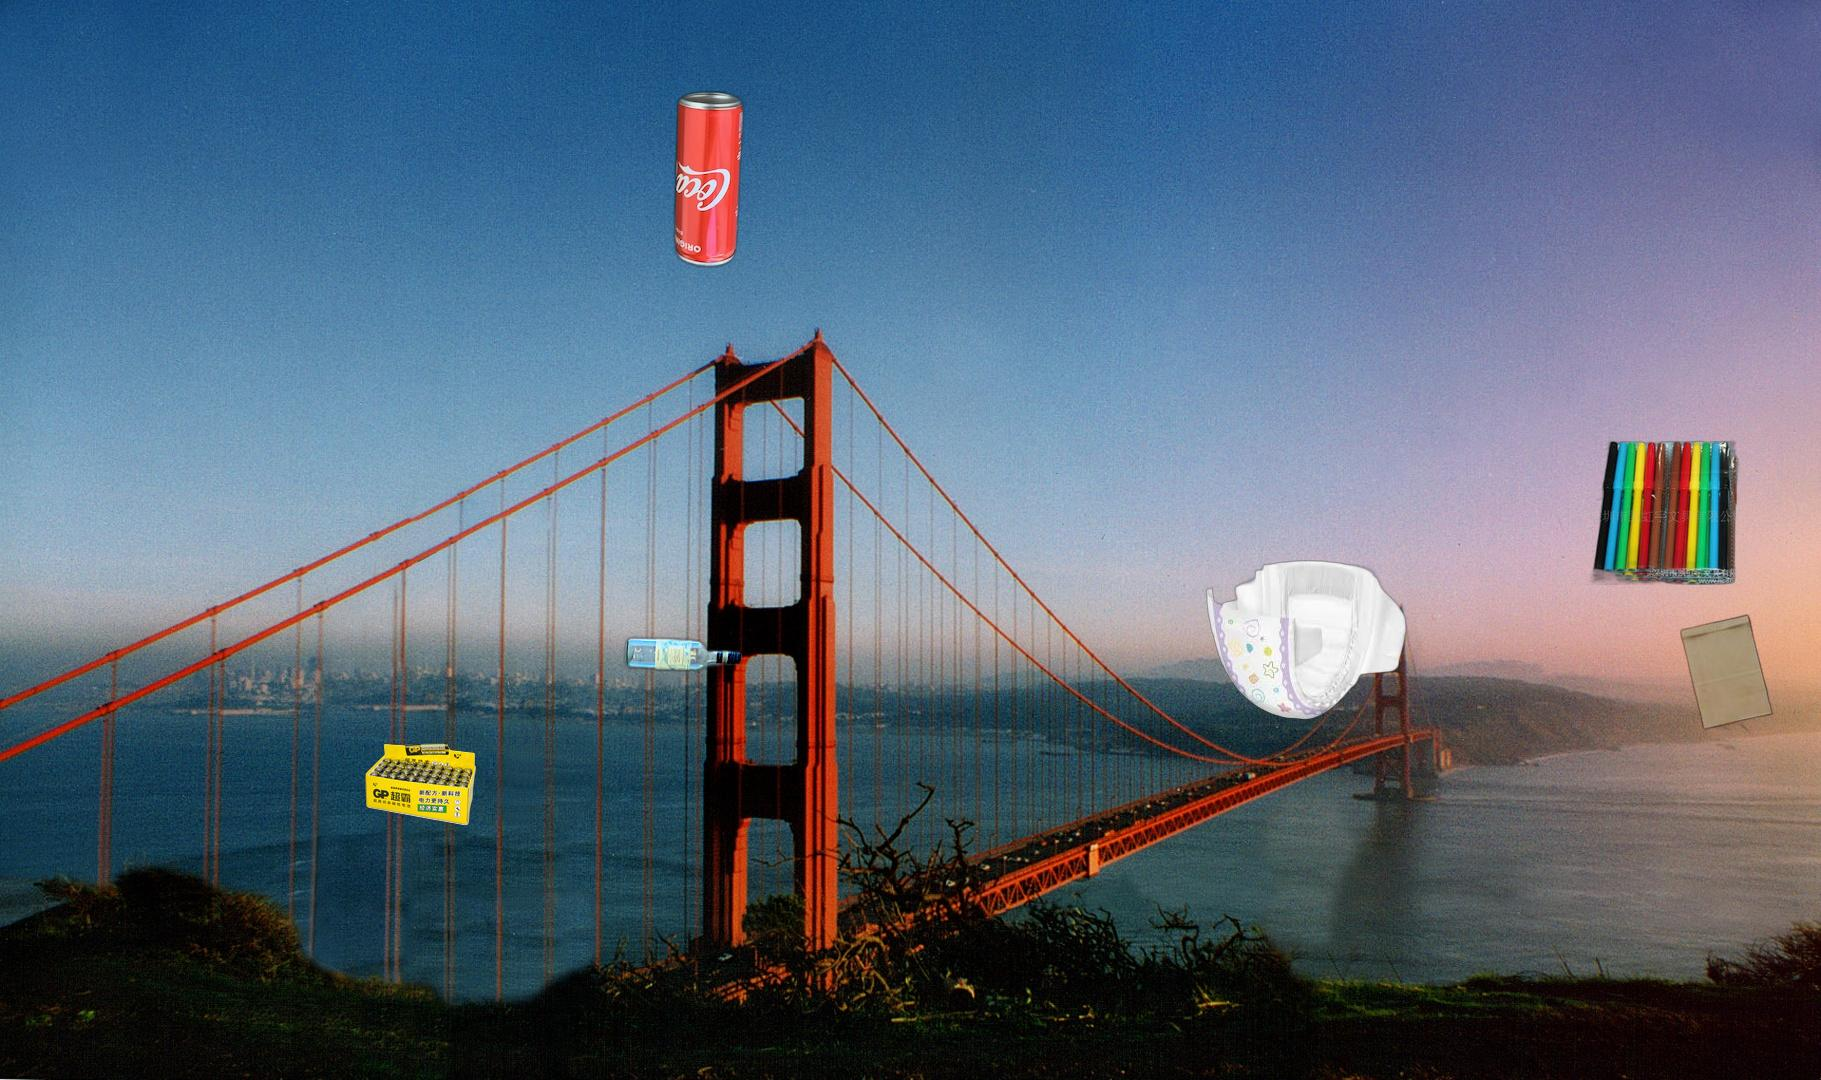battery: (362, 741, 479, 828)
glass: (619, 514, 846, 678)
metal-cans: (670, 85, 748, 273)
paper-bag: (1671, 572, 1776, 777)
penholder: (1585, 438, 1743, 585)
trash: (1203, 558, 1424, 723)
